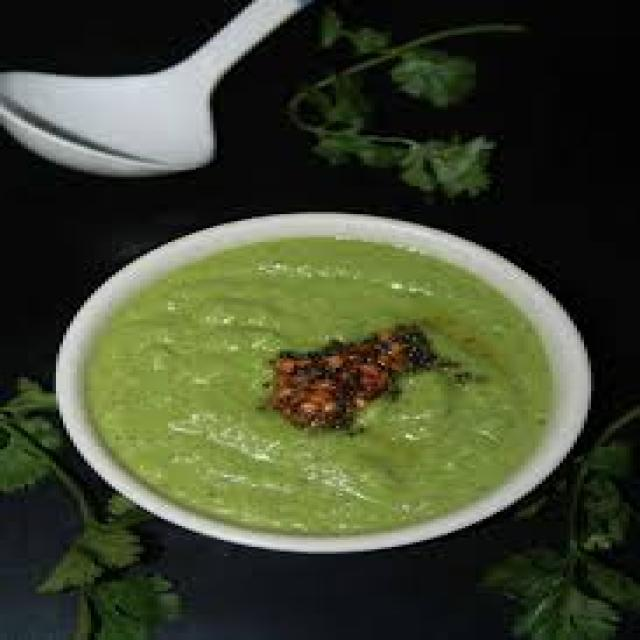GREEN CHUTNEY: (65, 216, 598, 550)
